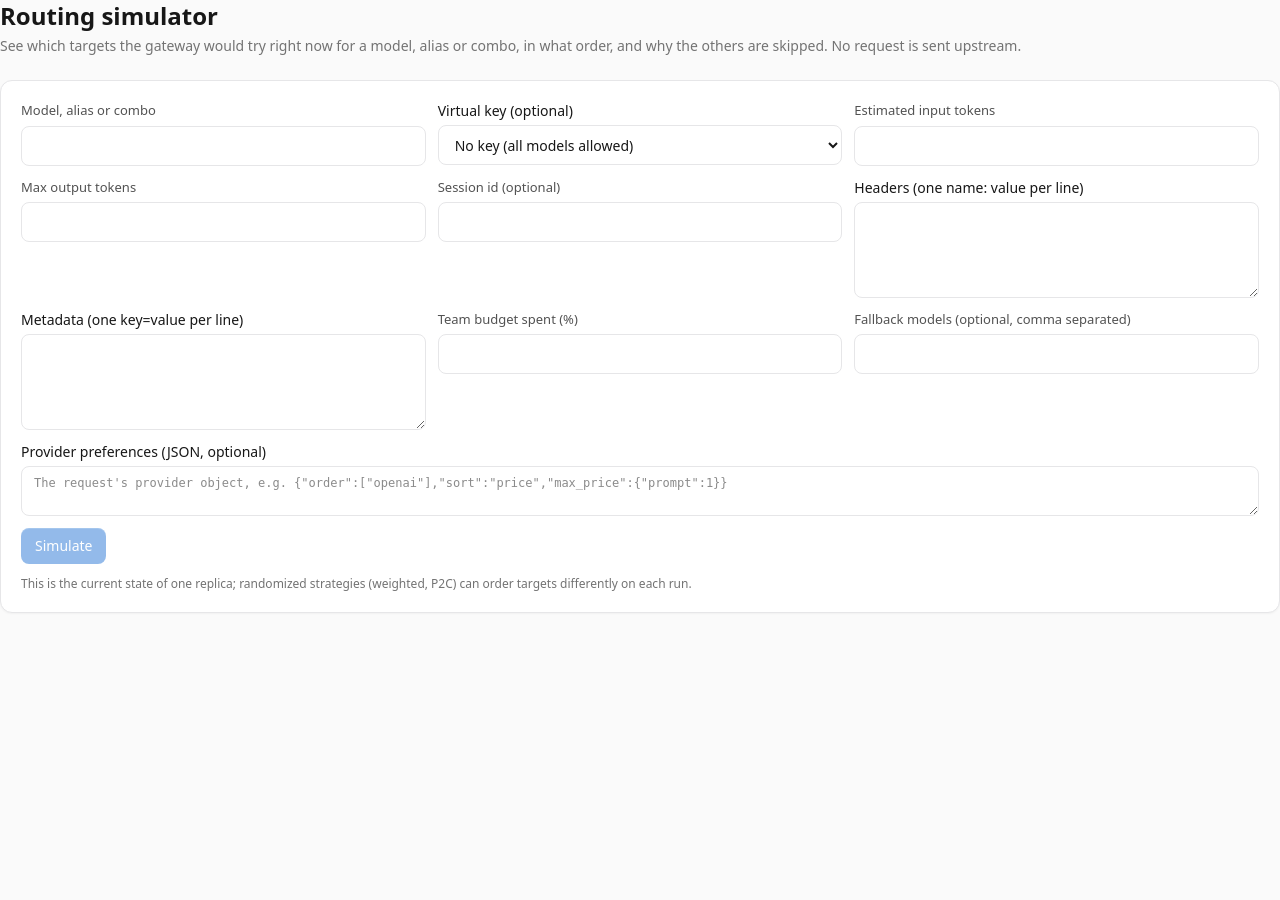
Test: routing simulator strategies (card 25.4) › formats the least-used signal
The image size is (1280, 900).
Type "x" into the field labelled "Model, alias or combo" at (223, 146), box [21, 126, 426, 166]
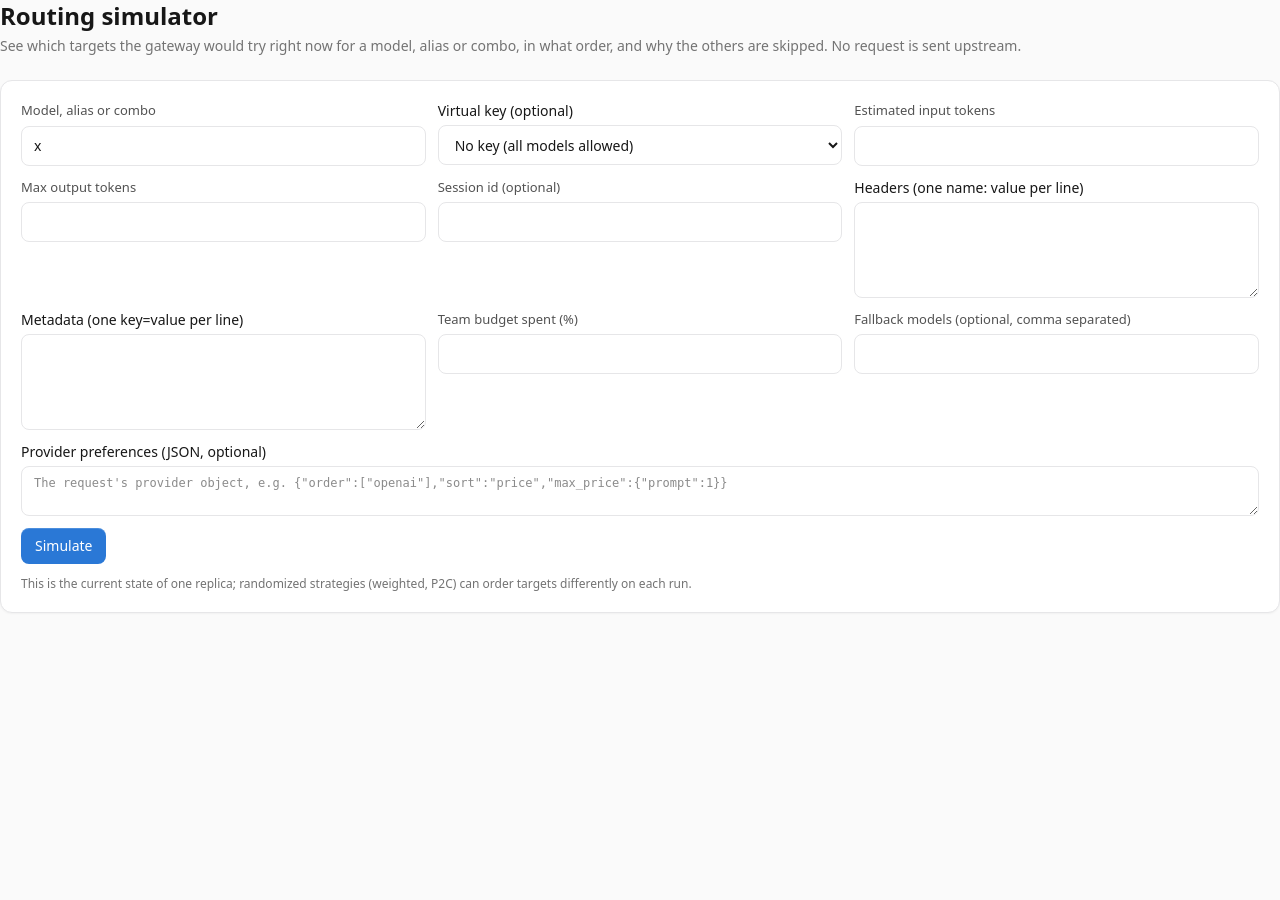
Click the button "Simulate" at (64, 546), box [21, 528, 106, 564]
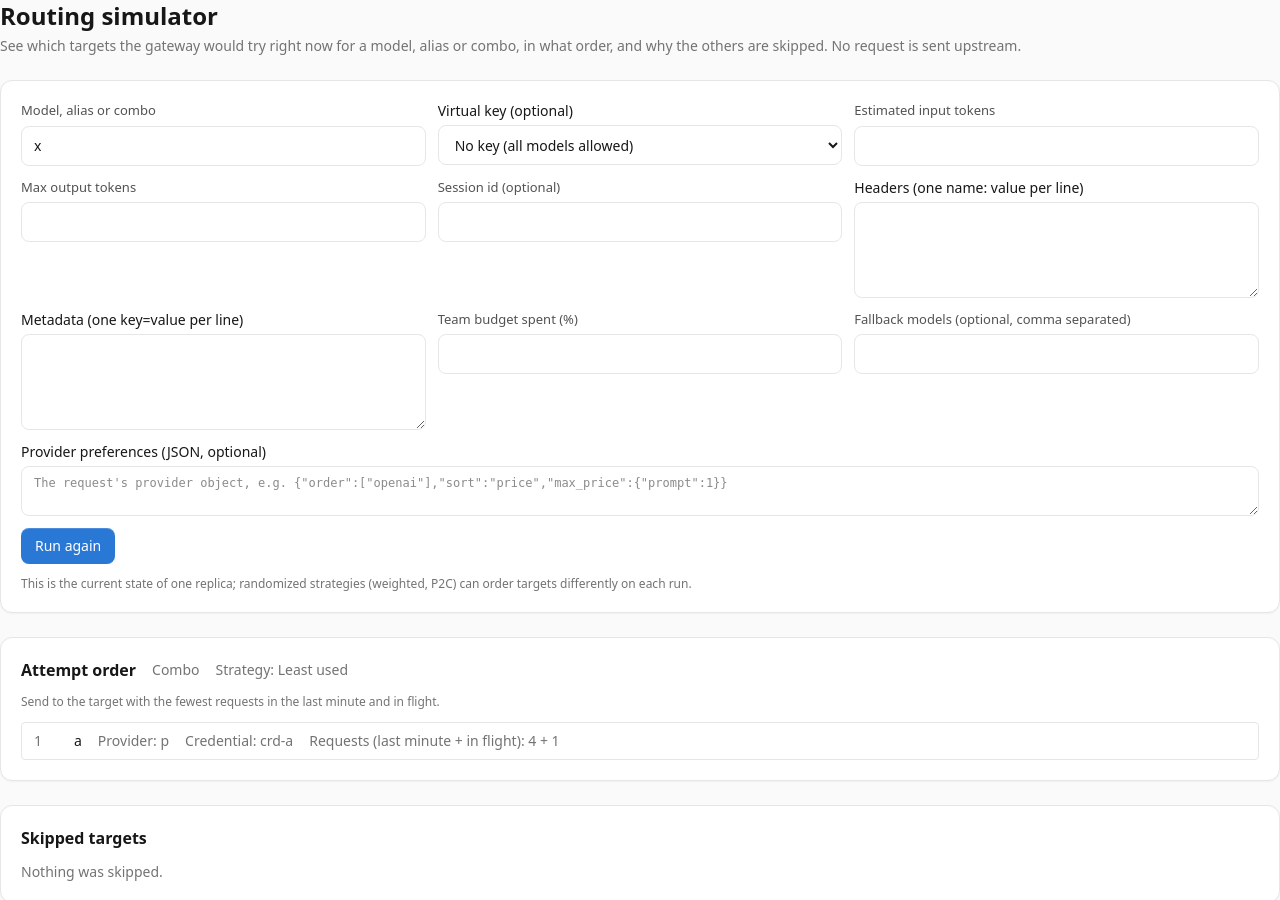
Check: the element with test id "simulator-signal" reads "Requests (last minute + in flight): 4 + 1", box [309, 731, 560, 751]
